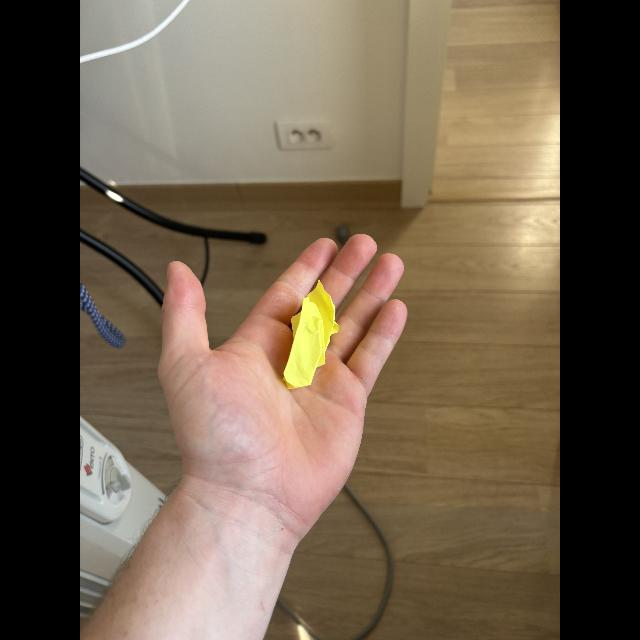Paper: (274, 277, 338, 401)
